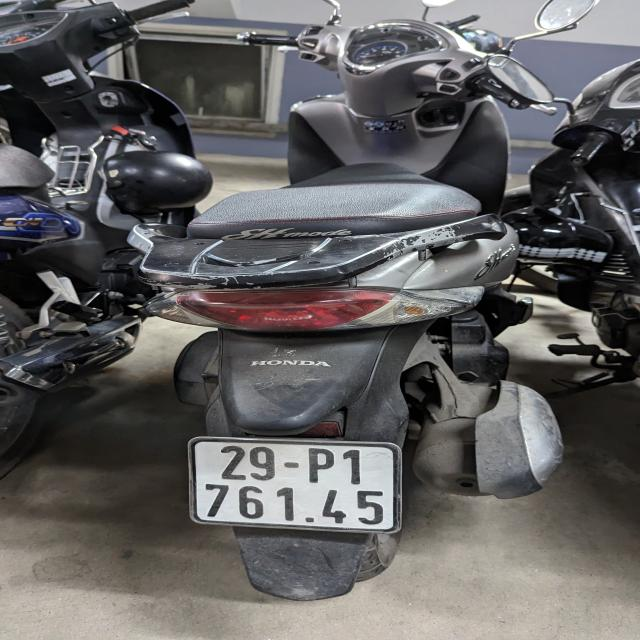License: (186, 436, 402, 534)
